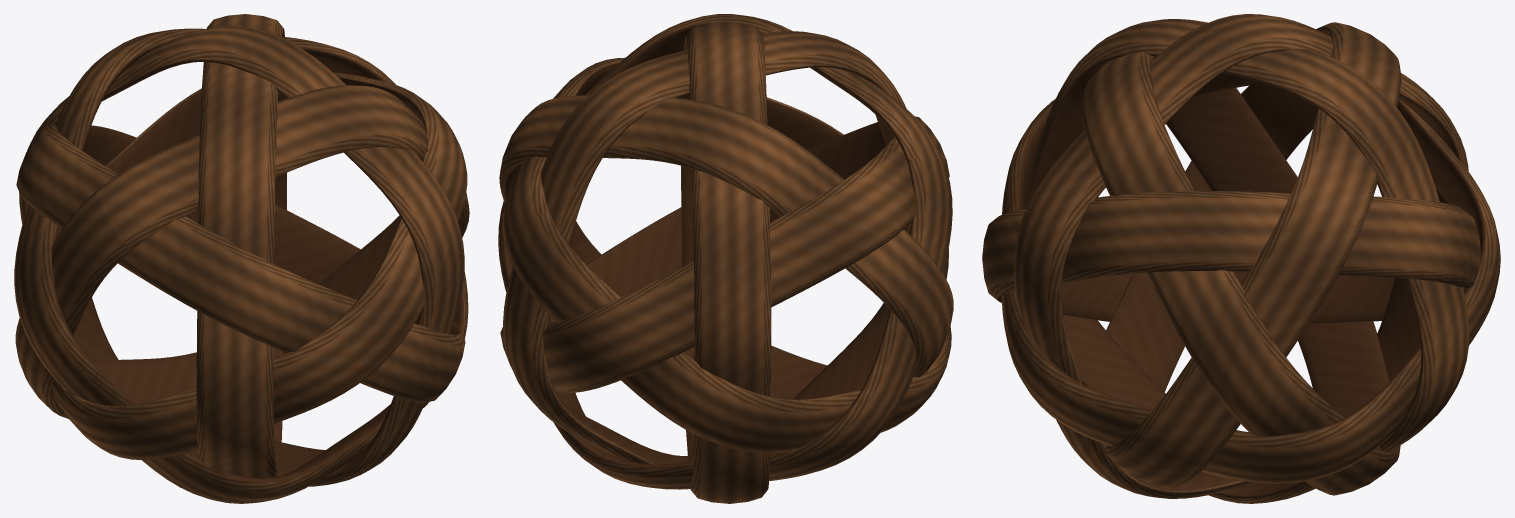
The model's file is bola_raga_lama.glb.
3 views of the same model, side by side, from view 1: azimuth 30°, elevation 25°; view 2: azimuth 150°, elevation 25°; view 3: azimuth 270°, elevation 25° (orthographic). The views are drawn at different scales.
Parts seen in each view (by area): view 1: b2; view 2: b2; view 3: b2.
Part boxes in pixels (<box>): b2: <box>14,14,469,503</box>; b2: <box>498,14,953,503</box>; b2: <box>982,14,1500,503</box>.
Size of the model in its own units: 0.14 by 0.14 by 0.14.
1 material, 1 textured.
